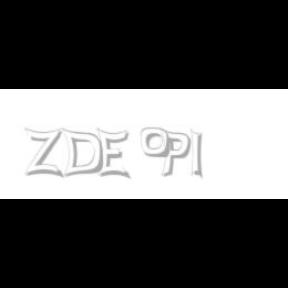D: (60, 128, 104, 178)
E: (96, 128, 130, 180)
I: (190, 128, 204, 180)
P: (159, 128, 191, 178)
Z: (24, 128, 62, 178)
o: (140, 128, 170, 158)
